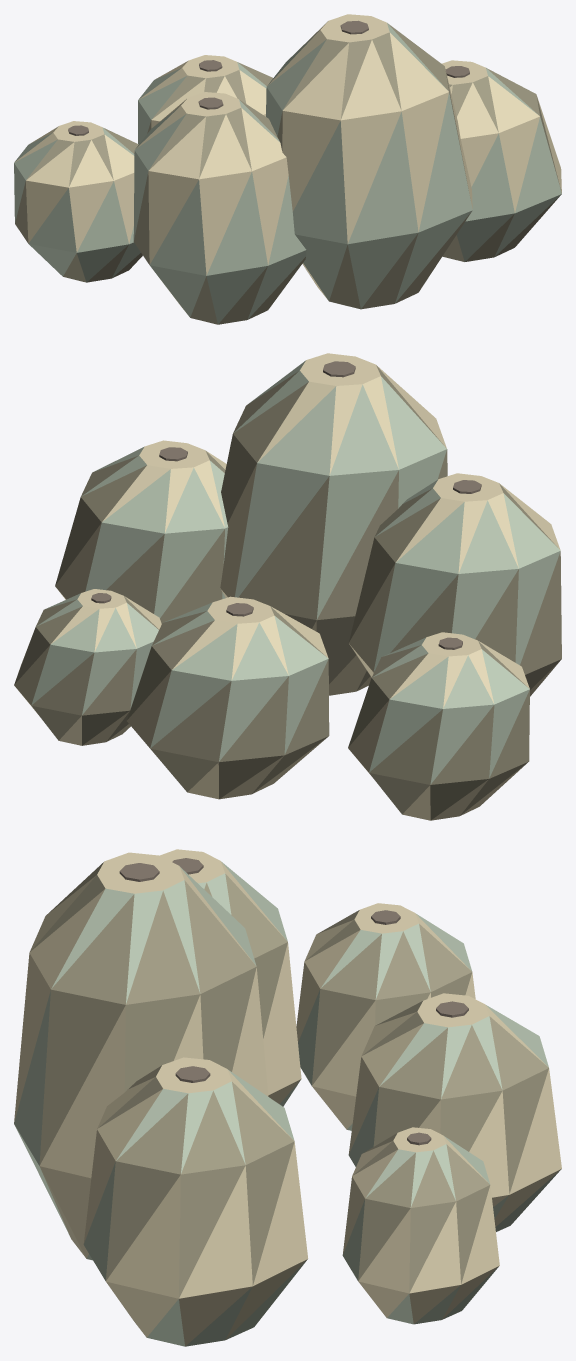
File: AE_Mushroom_PuffballNest.fbx
The picture shows the model from 3 angles, top to bottom: view 1: azimuth 30°, elevation 25°; view 2: azimuth 150°, elevation 25°; view 3: azimuth 270°, elevation 25°; orthographic projection. The views are drawn at different scales.
Parts seen in each view (by area): view 1: AE_Mushroom_PuffballNest; view 2: AE_Mushroom_PuffballNest; view 3: AE_Mushroom_PuffballNest.
Part boxes in pixels (x1=…): AE_Mushroom_PuffballNest: x1=14, y1=14, x2=561, y2=324; AE_Mushroom_PuffballNest: x1=14, y1=353, x2=561, y2=820; AE_Mushroom_PuffballNest: x1=14, y1=849, x2=561, y2=1346.
Size of the model in its own units: 1.11 by 0.594 by 0.8235.
